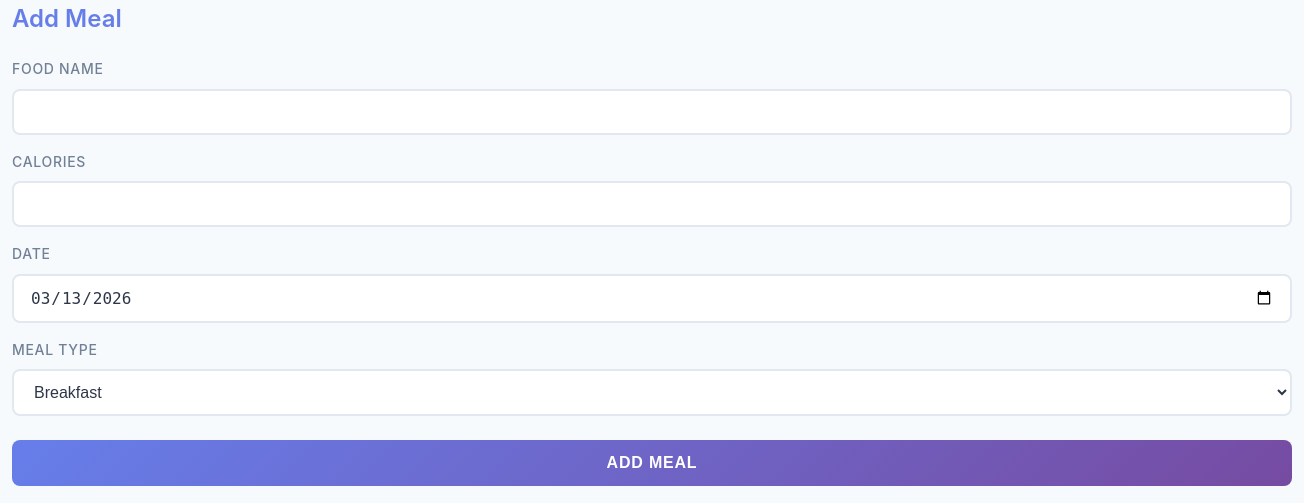
MealForm Component › resets form after successful submission
The image size is (1304, 503).
Type "Pizza" into the field labelled "Food Name".
click(652, 112); type("Pizza")  # box [12,89,1292,135]
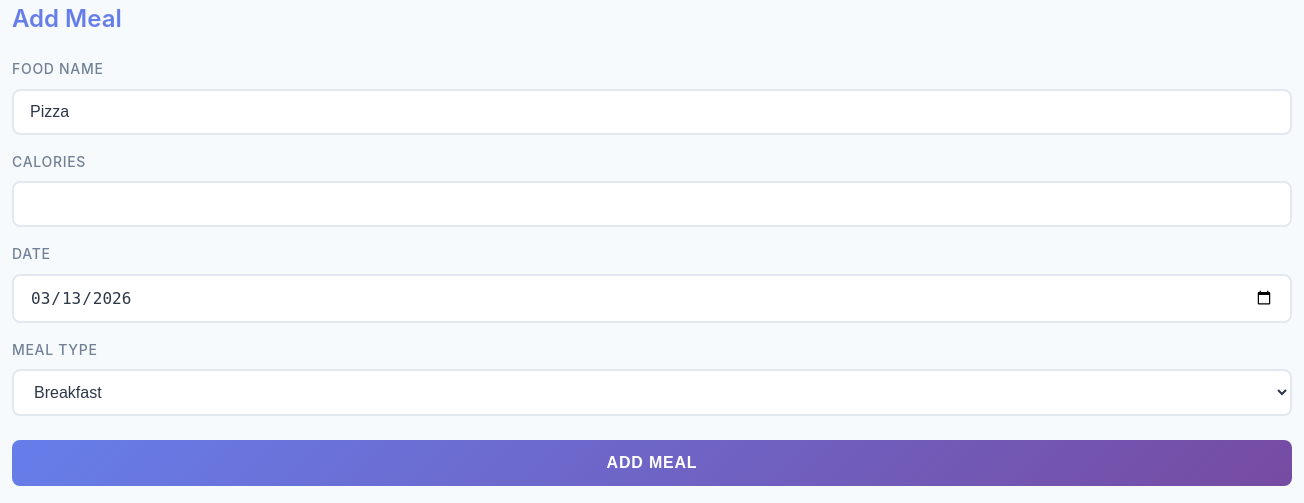
Type "285" into the number field labelled "Calories".
click(652, 204); type("285")  # box [12,181,1292,227]
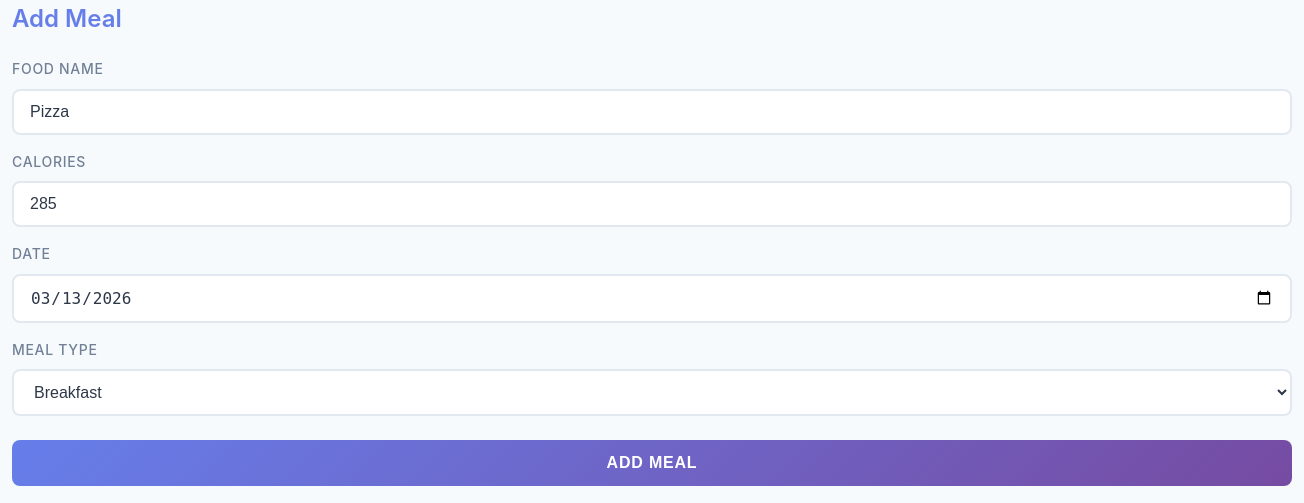
Click the button "Add Meal".
click(652, 463)  # box [12,440,1292,486]
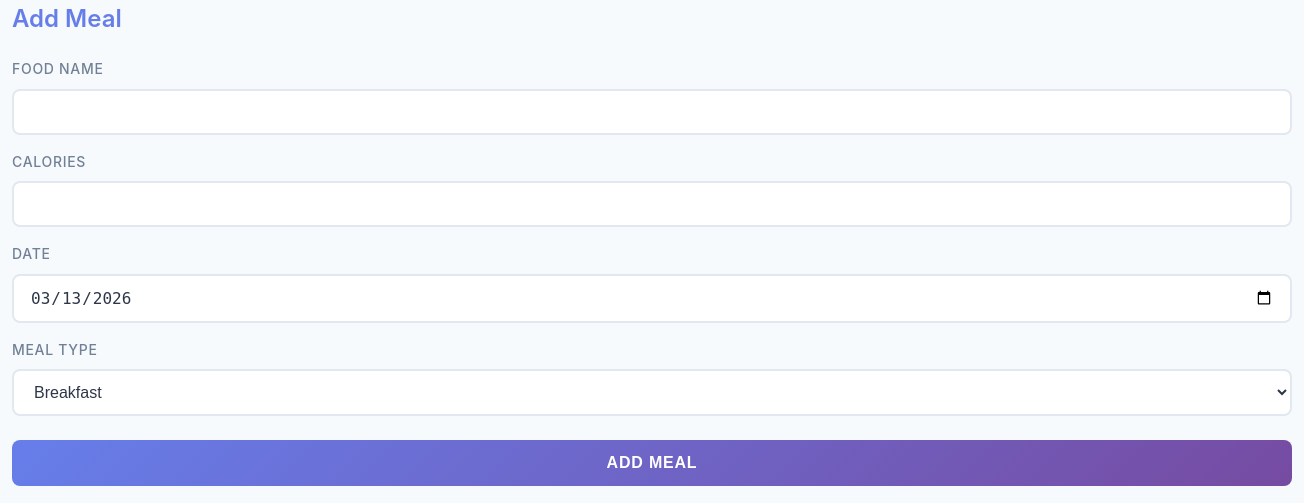
Expected: the field labelled "Food Name" is empty, [12,89,1292,135]
Expected: the number field labelled "Calories" is not empty, [12,181,1292,227]
